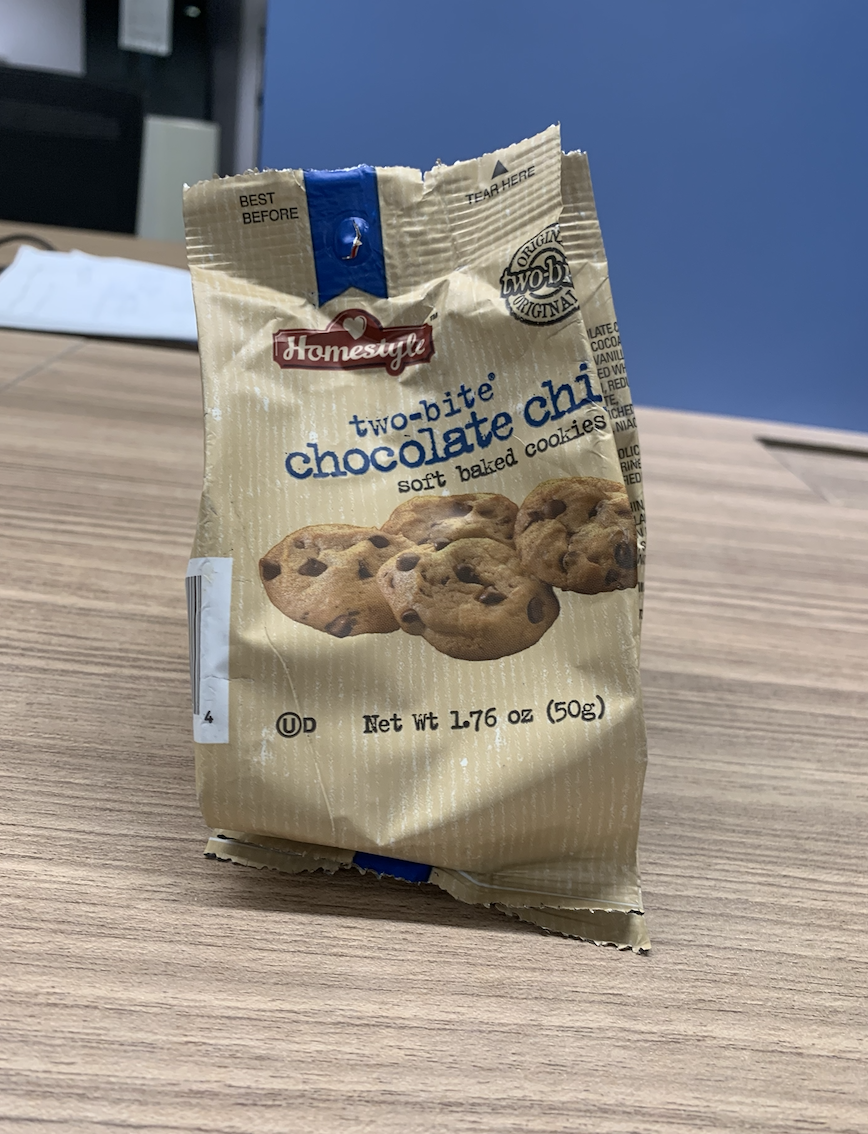cookies_50g: (216, 175, 636, 899)
